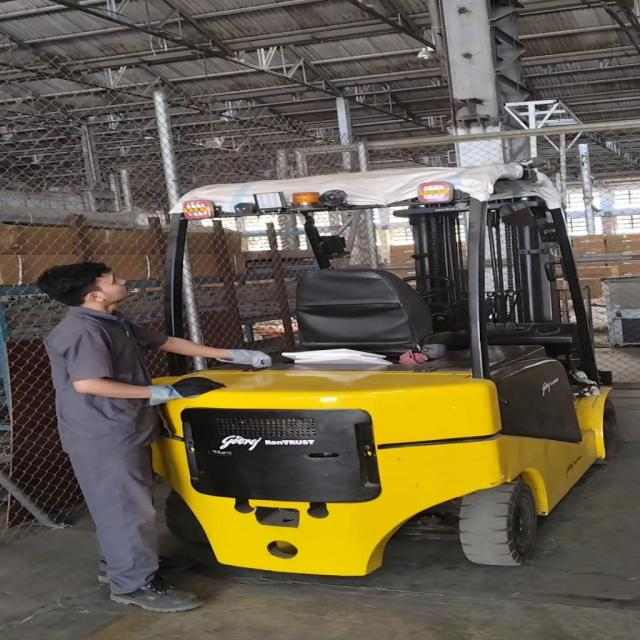Gloves-Detection: (208, 346, 290, 369), (148, 376, 225, 400)
